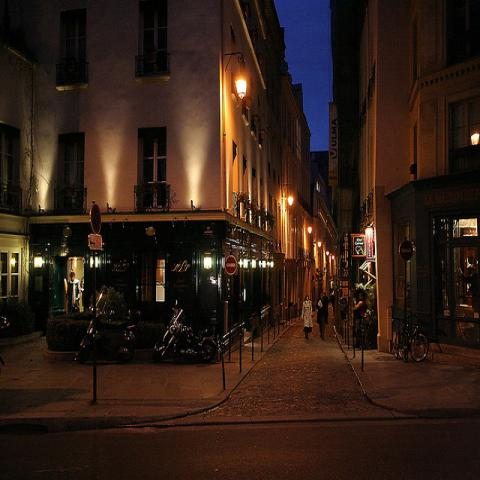motorcycle: (73, 287, 135, 364), (154, 302, 218, 364)
